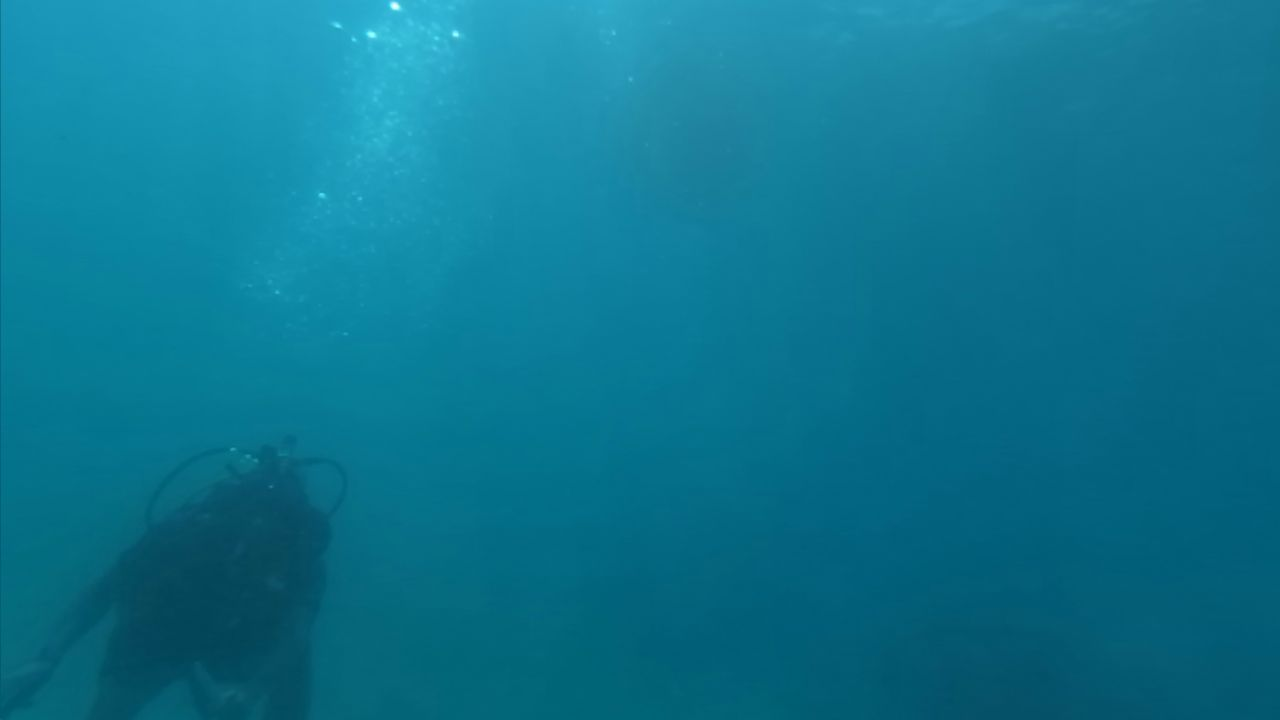Diver: (12, 402, 412, 712)
